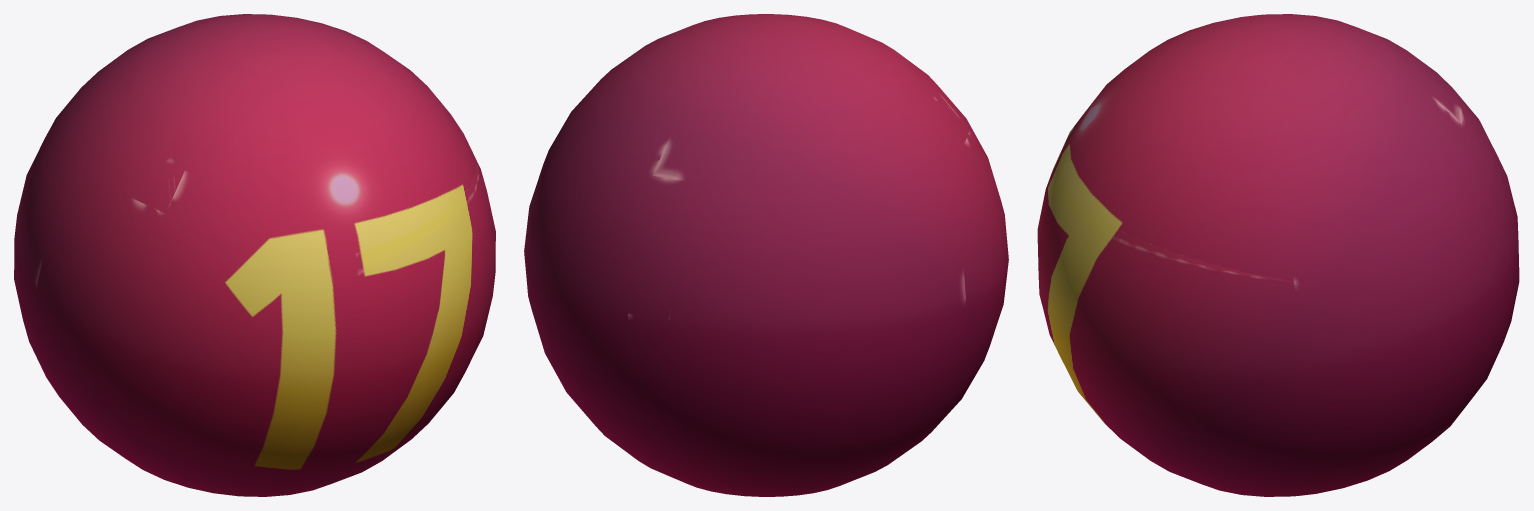
The model's file is Enemy 17.fbx.
3 renders of one model, left to right at view 1: azimuth 30°, elevation 25°; view 2: azimuth 150°, elevation 25°; view 3: azimuth 270°, elevation 25°, orthographic.
Parts seen in each view (by area): view 1: Body 1.016; view 2: Body 1.016; view 3: Body 1.016.
Part boxes in pixels (box(x1,y1,x2,y2)): Body 1.016: box(14, 14, 495, 496); Body 1.016: box(524, 14, 1008, 496); Body 1.016: box(1037, 14, 1519, 496).
Size of the model in its own units: 472 by 474 by 472.
Materials: 1 (1 with a texture image).
